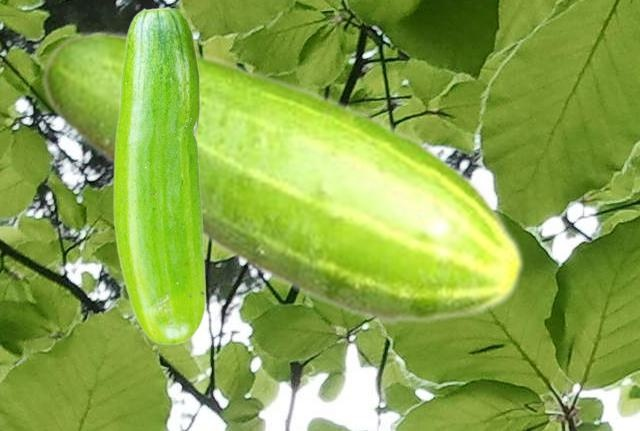cucumber: (41, 29, 525, 327), (113, 6, 205, 344)
